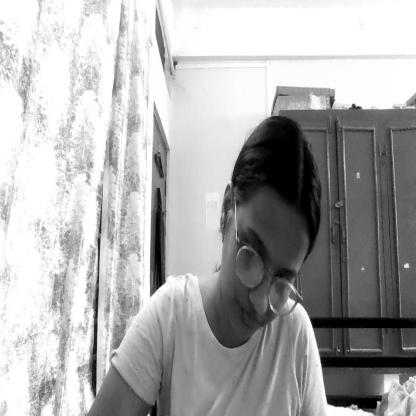Distracted: (217, 143, 309, 342)
